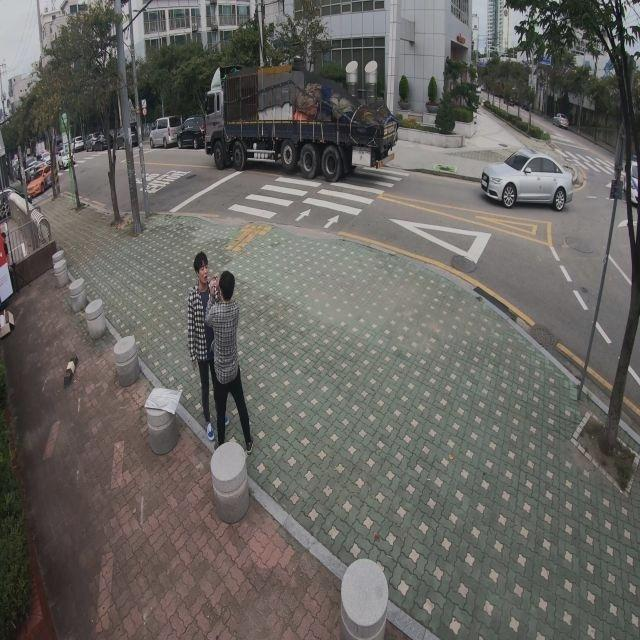fight: (186, 249, 252, 451)
